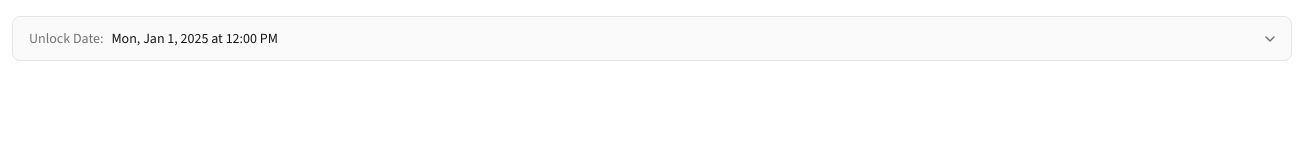
Scenario: CollapsibleDateControl › should expand when header is clicked
Click the button "Unlock Date: Mon, Jan 1, 2025 at 12:00 PM" at point(64, 38), box [12,16,1292,61]
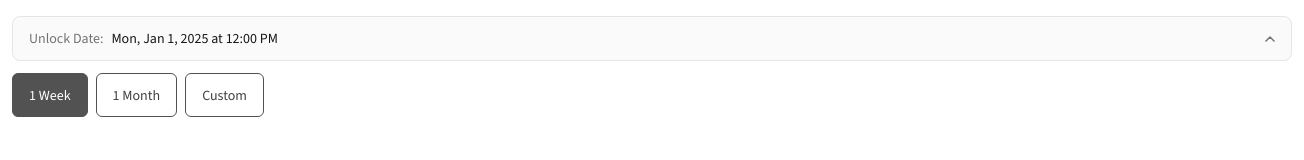
Check: the button "Unlock Date: Mon, Jan 1, 2025 at 12:00 PM" is expanded, box [12,16,1292,61]
